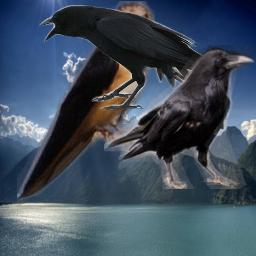Crow: (104, 45, 255, 189), (39, 5, 231, 111)
Swallow: (17, 1, 155, 206)
